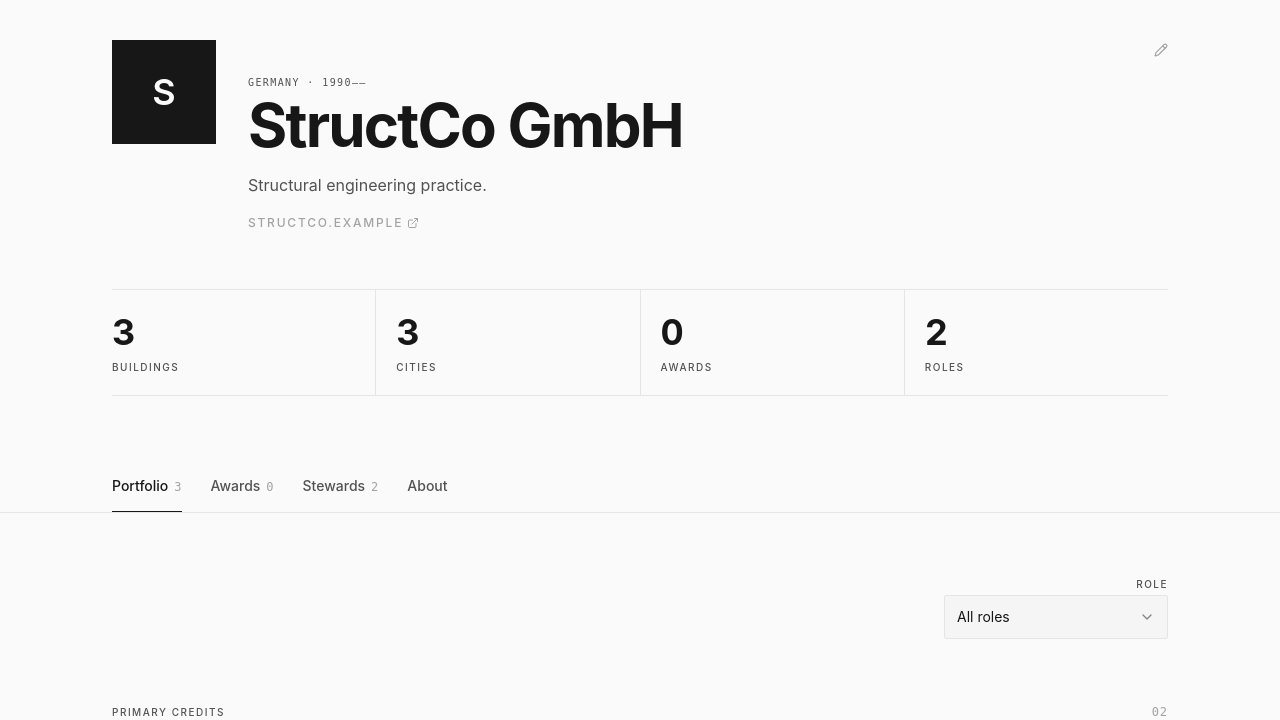
Test: CompanyDetails (QA 4.2 claimed) › non-owner steward sees Edit and stewards list but not Invite or Remove
Click the button "Stewards2" at (341, 486), box [302,460,379,512]
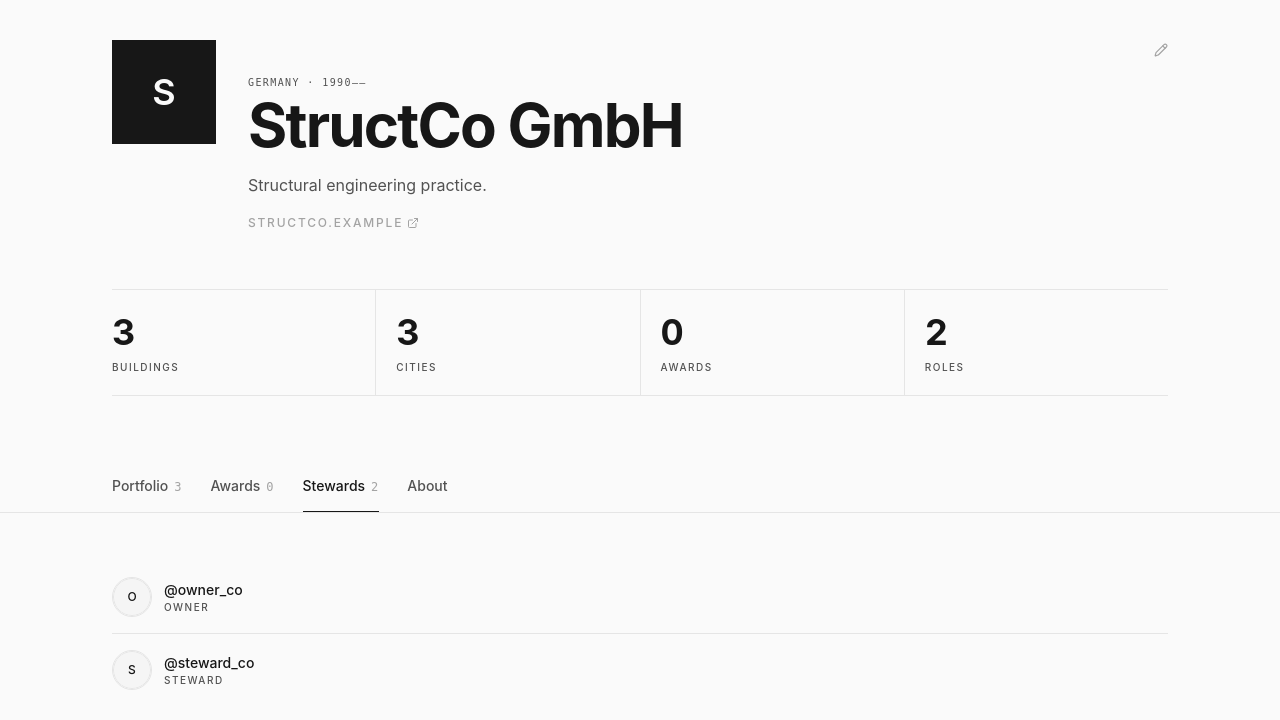
Result: the element named "Company stewards" is shown at [112,577,1168,706]
